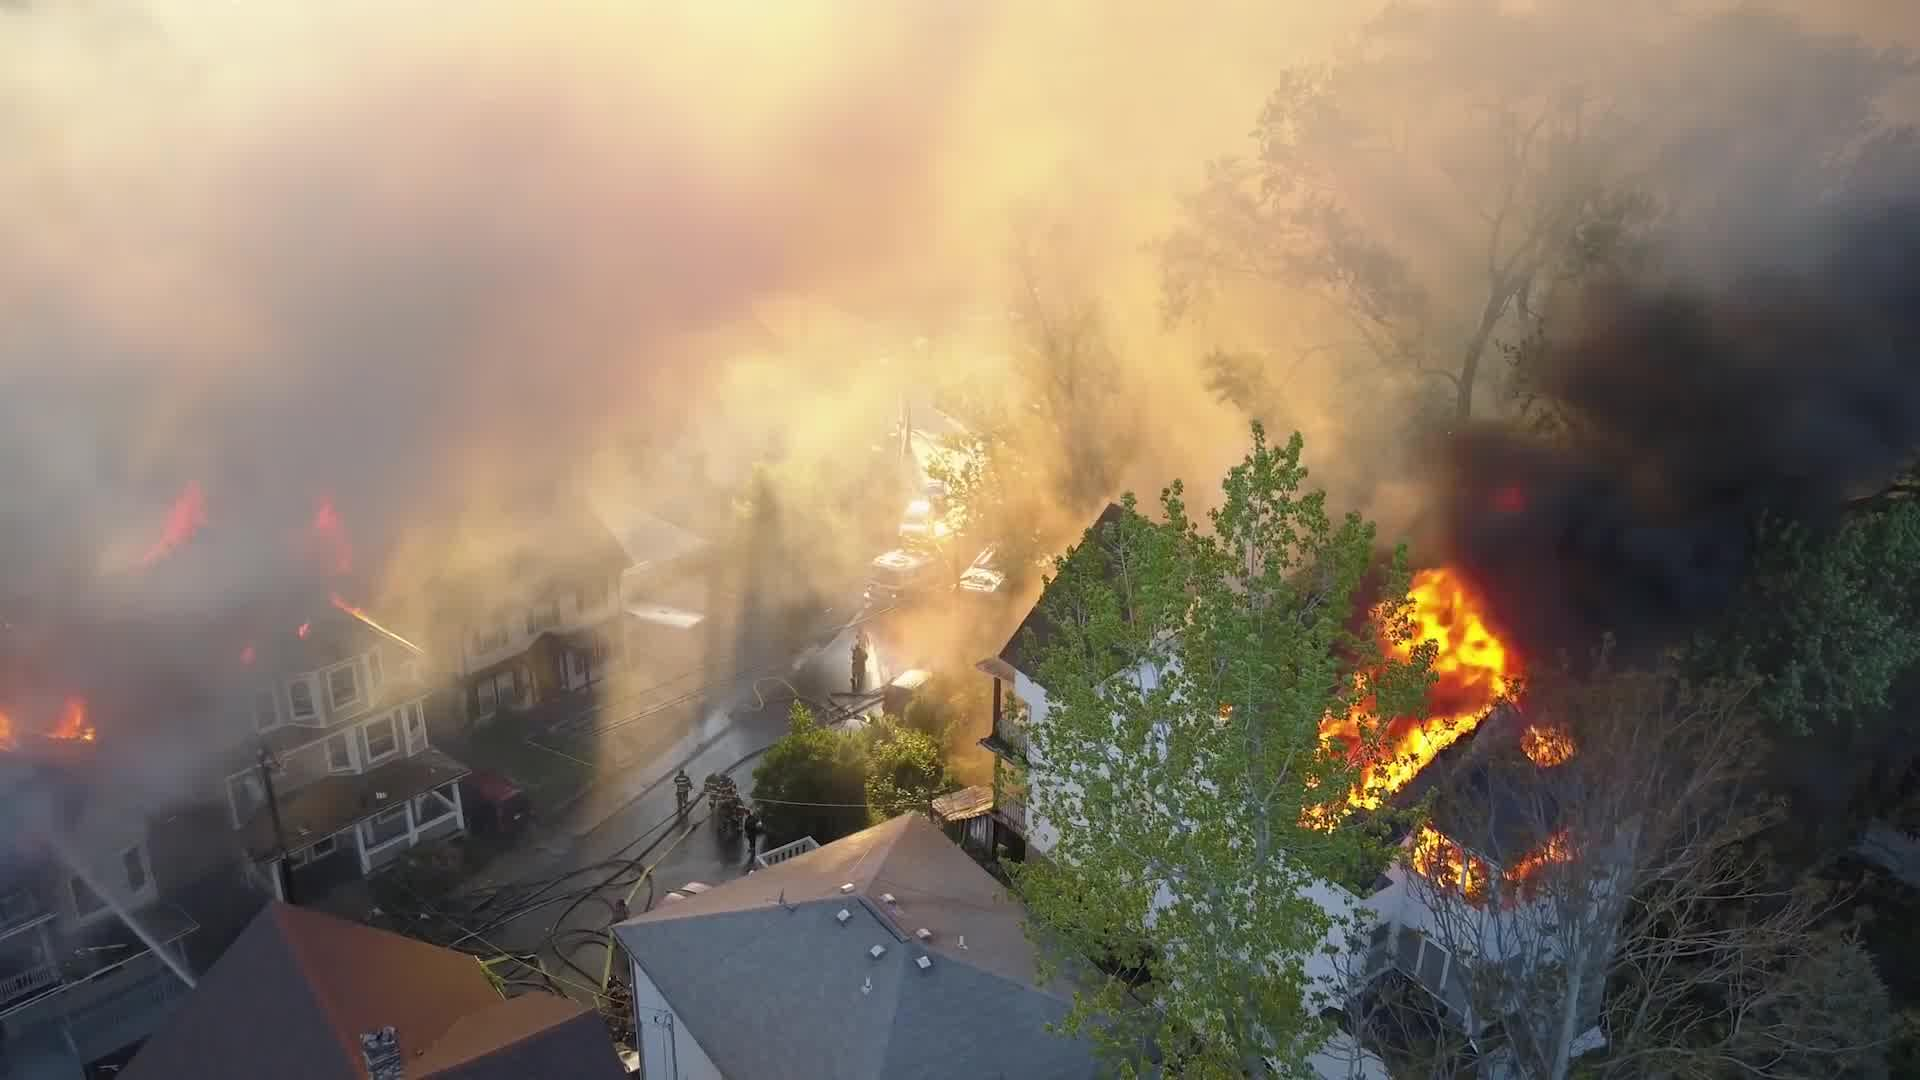fire: (1254, 538, 1606, 939), (3, 448, 351, 796)
